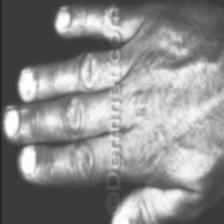Toxin: (18, 140, 38, 172), (21, 64, 39, 98), (6, 104, 22, 142), (116, 217, 131, 224)
